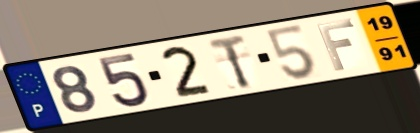2: (160, 44, 213, 99)
5: (93, 50, 152, 109), (263, 22, 318, 83)
8: (51, 64, 99, 114)
F: (314, 17, 358, 73)
T: (205, 32, 254, 91)
